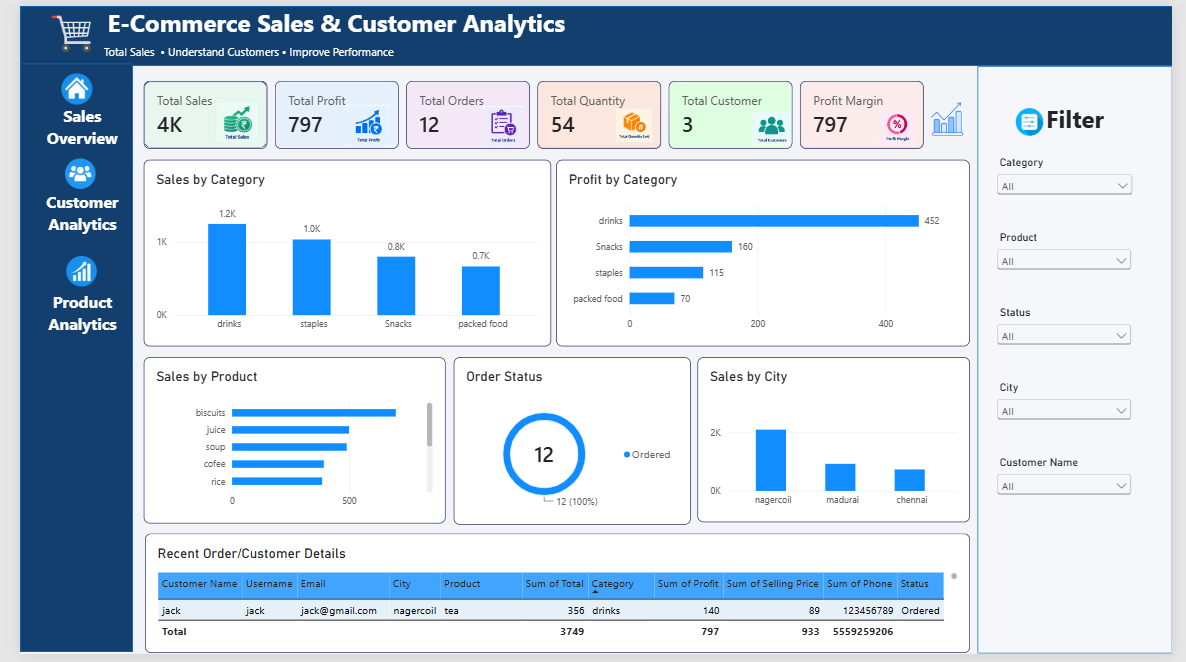

The dashboard page shown, as its layout file describes it:
{"tool":"powerbi","page":{"name":"Sales Overview","canvas":[1536,864],"ordinal":0},"visuals":[{"type":"cardVisual","fields":{"Data":["Sum(ecommerce_dataset.Total)"]},"box":[165,100,165,90],"z":0},{"type":"cardVisual","fields":{"Data":["Sum(ecommerce_dataset.Profit)"]},"box":[340,100,165,90],"z":1000},{"type":"cardVisual","fields":{"Data":["CountNonNull(ecommerce_dataset.Order ID)"]},"box":[515,100,165,90],"z":2000},{"type":"cardVisual","fields":{"Data":["Sum(ecommerce_dataset.Quantity)"]},"box":[690,100,165,90],"z":3000},{"type":"cardVisual","fields":{"Data":["Count(ecommerce_dataset.Customer Name)"]},"box":[865,100,165,90],"z":4000},{"type":"cardVisual","fields":{"Data":["Sum(ecommerce_dataset.Profit)"]},"box":[1040,100,165,90],"z":5000},{"type":"clusteredColumnChart","title":"Sales by Category","fields":{"Category":["ecommerce_dataset.Category"],"Y":["Sum(ecommerce_dataset.Total)"]},"box":[165,205.6,542.9,249],"z":6000},{"type":"barChart","title":" Profit by Category","fields":{"Category":["ecommerce_dataset.Category"],"Y":["Sum(ecommerce_dataset.Profit)"]},"box":[715.2,205.6,551.6,249],"z":7000},{"type":"barChart","title":"Sales by Product","fields":{"Category":["ecommerce_dataset.Product"],"Y":["Sum(ecommerce_dataset.Total)"]},"box":[165,469.1,402.5,221.5],"z":8000},{"type":"donutChart","title":"Order Status","fields":{"Category":["ecommerce_dataset.Status"],"Y":["CountNonNull(ecommerce_dataset.Order ID)"]},"box":[577.6,469.1,315.6,223],"z":9000},{"type":"clusteredColumnChart","title":"Sales by City","fields":{"Category":["ecommerce_dataset.City"],"Y":["Sum(ecommerce_dataset.Total)"]},"box":[903.4,469.1,363.4,220.1],"z":10000},{"type":"shape","box":[0,0,1920.1,79.6],"z":11000},{"type":"textbox","box":[71.2,0,700,50],"z":12000},{"type":"textbox","box":[112.2,50.7,557.4,29],"z":13000},{"type":"shape","box":[0,76.7,150.6,784.7],"z":14000},{"type":"shape","box":[1276.7,80,260,783.3],"z":15000},{"type":"slicer","fields":{"Values":["ecommerce_dataset.Category"]},"box":[1298.3,200,190,70],"z":16000},{"type":"slicer","fields":{"Values":["ecommerce_dataset.Product"]},"box":[1298.3,300,188.3,70],"z":17000},{"type":"slicer","fields":{"Values":["ecommerce_dataset.Status"]},"box":[1298.3,400,188.3,70],"z":18000},{"type":"slicer","fields":{"Values":["ecommerce_dataset.Customer Name"]},"box":[1298.3,600,188.3,70],"z":19000},{"type":"textbox","box":[1298.5,110.6,216.7,68.2],"z":20000},{"type":"textbox","box":[165,690,390,174],"z":21000},{"type":"textbox","box":[565,690,300,174],"z":22000},{"type":"slicer","fields":{"Values":["ecommerce_dataset.City"]},"box":[1298.6,500,188.3,93.3],"z":23000},{"type":"tableEx","title":"Recent Order/Customer Details","fields":{"Values":["ecommerce_dataset.Customer Name","ecommerce_dataset.Username","ecommerce_dataset.Email","ecommerce_dataset.City","ecommerce_dataset.Product","Sum(ecommerce_dataset.Total)","ecommerce_dataset.Category","Sum(ecommerce_dataset.Profit)","Sum(ecommerce_dataset.Selling Price)","Sum(ecommerce_dataset.Phone)","ecommerce_dataset.Status"]},"box":[166.5,703.6,1100.3,159.3],"z":24000},{"type":"image","box":[247.6,124.5,81.7,60],"z":25000},{"type":"image","box":[427.1,131.7,75.8,54.5],"z":26000},{"type":"image","box":[567.5,133.2,150,53],"z":27000},{"type":"image","box":[794.8,131.7,48.3,55],"z":28000},{"type":"image","box":[975,141.7,55,45],"z":29000},{"type":"image","box":[1135,140.4,70,45],"z":30000},{"type":"image","box":[1319.7,134.8,51.5,39.4],"z":31000},{"type":"image","box":[25.8,7.6,86.4,57.6],"z":32000},{"type":"textbox","box":[26.1,131.7,112.9,85.4],"z":33000},{"type":"textbox","box":[26.1,246.1,112.9,107.1],"z":34000},{"type":"textbox","box":[26.1,379.3,112.9,120.2],"z":35000},{"type":"image","box":[55,86.9,42,47.8],"z":36000},{"type":"image","box":[59.4,199.8,41,47],"z":37000},{"type":"image","box":[62.3,330.1,41,47],"z":38000},{"type":"image","box":[1204.5,128.8,62.3,44.9],"z":39000}]}

Visuals, with their boxes in screenshot pixels (x1, y1, x2, y2):
cardVisual - Sum(ecommerce_dataset.Total): {"x1": 140, "y1": 79, "x2": 264, "y2": 146}
cardVisual - Sum(ecommerce_dataset.Profit): {"x1": 272, "y1": 79, "x2": 396, "y2": 146}
cardVisual - CountNonNull(ecommerce_dataset.Order ID): {"x1": 404, "y1": 79, "x2": 528, "y2": 146}
cardVisual - Sum(ecommerce_dataset.Quantity): {"x1": 536, "y1": 79, "x2": 660, "y2": 146}
cardVisual - Count(ecommerce_dataset.Customer Name): {"x1": 668, "y1": 79, "x2": 792, "y2": 146}
cardVisual - Sum(ecommerce_dataset.Profit): {"x1": 800, "y1": 79, "x2": 925, "y2": 146}
"Sales by Category" clusteredColumnChart: {"x1": 140, "y1": 158, "x2": 549, "y2": 346}
" Profit by Category" barChart: {"x1": 555, "y1": 158, "x2": 971, "y2": 346}
"Sales by Product" barChart: {"x1": 140, "y1": 357, "x2": 444, "y2": 524}
"Order Status" donutChart: {"x1": 451, "y1": 357, "x2": 689, "y2": 525}
"Sales by City" clusteredColumnChart: {"x1": 697, "y1": 357, "x2": 971, "y2": 523}
shape: {"x1": 15, "y1": 3, "x2": 1185, "y2": 63}
textbox: {"x1": 69, "y1": 3, "x2": 597, "y2": 41}
textbox: {"x1": 100, "y1": 41, "x2": 521, "y2": 63}
shape: {"x1": 15, "y1": 61, "x2": 129, "y2": 653}
shape: {"x1": 979, "y1": 63, "x2": 1175, "y2": 654}
slicer - ecommerce_dataset.Category: {"x1": 995, "y1": 154, "x2": 1138, "y2": 207}
slicer - ecommerce_dataset.Product: {"x1": 995, "y1": 229, "x2": 1137, "y2": 282}
slicer - ecommerce_dataset.Status: {"x1": 995, "y1": 305, "x2": 1137, "y2": 358}
slicer - ecommerce_dataset.Customer Name: {"x1": 995, "y1": 456, "x2": 1137, "y2": 509}
textbox: {"x1": 995, "y1": 87, "x2": 1159, "y2": 138}
textbox: {"x1": 140, "y1": 524, "x2": 434, "y2": 655}
textbox: {"x1": 442, "y1": 524, "x2": 668, "y2": 655}
slicer - ecommerce_dataset.City: {"x1": 995, "y1": 380, "x2": 1137, "y2": 451}
"Recent Order/Customer Details" tableEx: {"x1": 141, "y1": 534, "x2": 971, "y2": 654}
image: {"x1": 202, "y1": 97, "x2": 264, "y2": 142}
image: {"x1": 338, "y1": 102, "x2": 395, "y2": 144}
image: {"x1": 444, "y1": 104, "x2": 557, "y2": 144}
image: {"x1": 615, "y1": 102, "x2": 651, "y2": 144}
image: {"x1": 751, "y1": 110, "x2": 792, "y2": 144}
image: {"x1": 872, "y1": 109, "x2": 925, "y2": 143}
image: {"x1": 1011, "y1": 105, "x2": 1050, "y2": 135}
image: {"x1": 35, "y1": 9, "x2": 100, "y2": 52}
textbox: {"x1": 35, "y1": 102, "x2": 120, "y2": 167}
textbox: {"x1": 35, "y1": 189, "x2": 120, "y2": 270}
textbox: {"x1": 35, "y1": 289, "x2": 120, "y2": 380}
image: {"x1": 57, "y1": 69, "x2": 89, "y2": 105}
image: {"x1": 60, "y1": 154, "x2": 91, "y2": 189}
image: {"x1": 62, "y1": 252, "x2": 93, "y2": 288}
image: {"x1": 924, "y1": 100, "x2": 971, "y2": 134}
